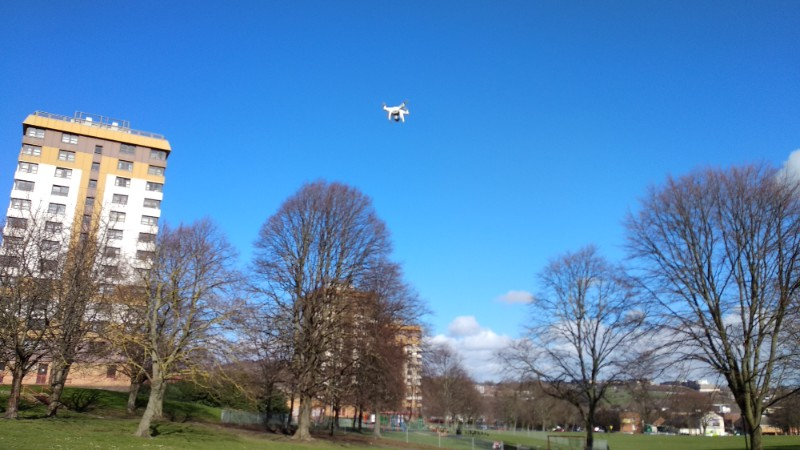drone: (377, 99, 415, 125)
